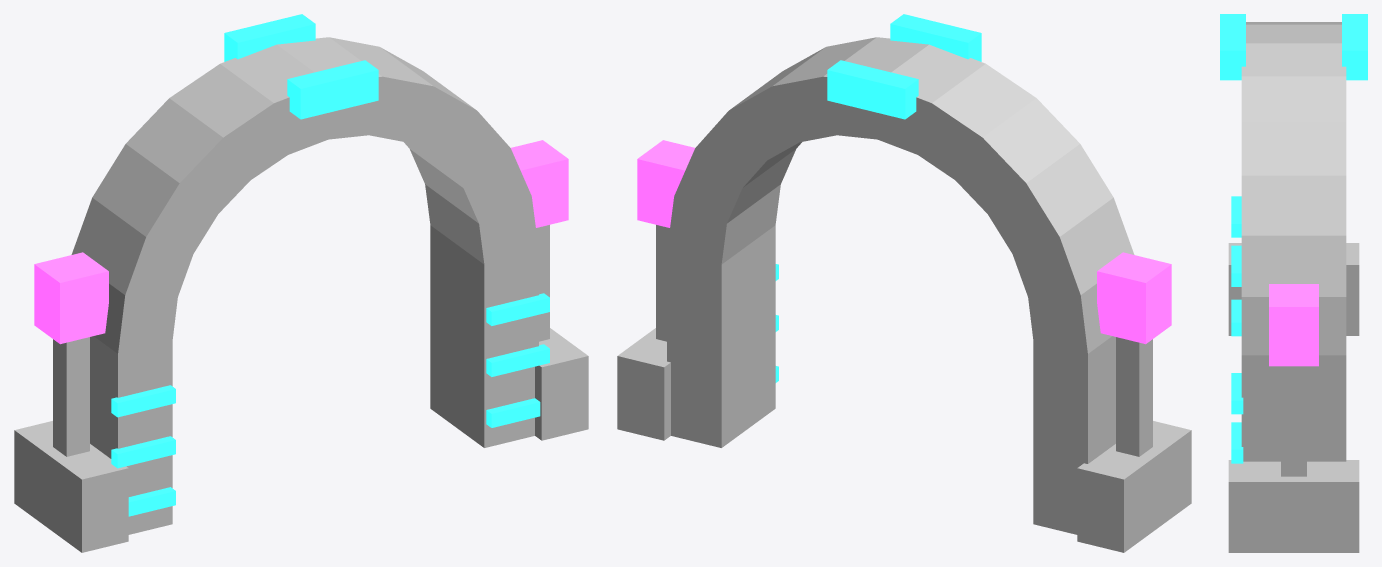
The picture shows the model from 3 angles, left to right: view 1: azimuth 30°, elevation 25°; view 2: azimuth 150°, elevation 25°; view 3: azimuth 270°, elevation 25°; orthographic projection. The views are drawn at different scales.
Visible parts, largest first — view 1: Neon_ArchGate_Showcase; view 2: Neon_ArchGate_Showcase; view 3: Neon_ArchGate_Showcase.
Boxes of the visible parts, x1,y1,x2,y2 form: Neon_ArchGate_Showcase: (14, 14, 588, 552); Neon_ArchGate_Showcase: (617, 14, 1191, 552); Neon_ArchGate_Showcase: (1220, 14, 1367, 552).
Bounding box in the file's own units: 2.61 × 2.04 × 0.68.
